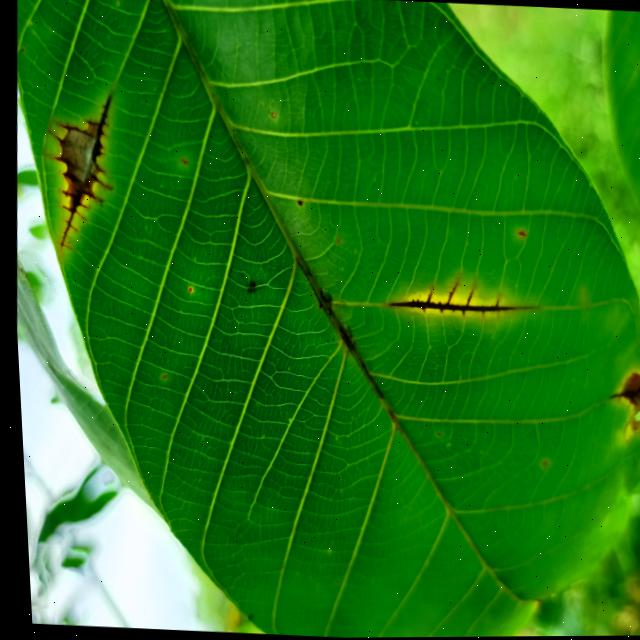Colletotrichum: (268, 113, 274, 119), (294, 200, 299, 206)
Corynespora: (32, 91, 118, 261), (379, 274, 534, 323)
Leaf-Blight: (612, 371, 640, 434)
